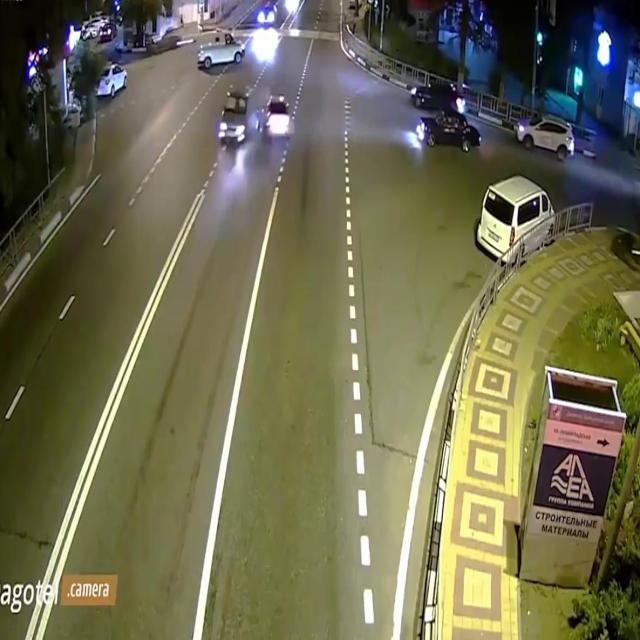accident: (215, 80, 297, 156)
non_accident: (407, 76, 485, 156)
